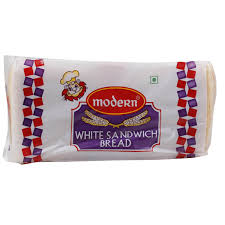bread: (5, 45, 211, 167)
